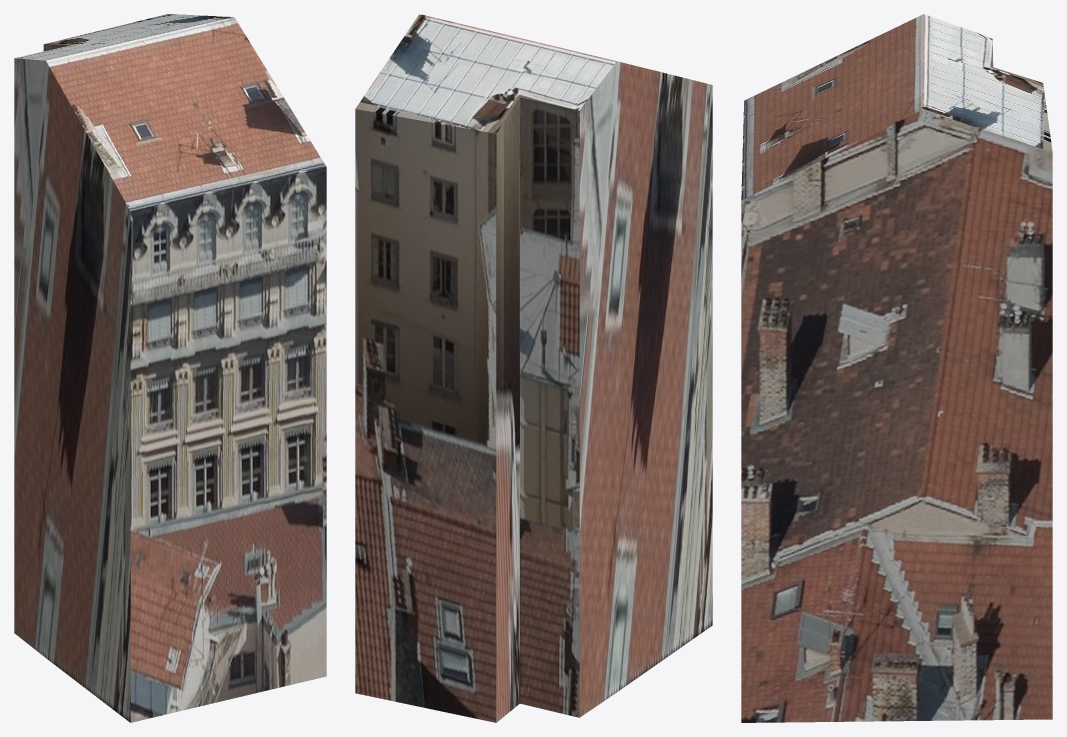
3 views of the same model, side by side, from view 1: azimuth 30°, elevation 25°; view 2: azimuth 150°, elevation 25°; view 3: azimuth 270°, elevation 25° (orthographic). The views are drawn at different scales.
Visible parts, largest first — view 1: Z_UP; view 2: Z_UP; view 3: Z_UP.
Boxes of the visible parts, x1,y1,x2,y2 form: Z_UP: (14, 14, 326, 722); Z_UP: (355, 14, 712, 722); Z_UP: (741, 14, 1052, 722).
Size of the model in its own units: 9.91 by 29.05 by 13.37.
Materials: 2 (1 with a texture image).
